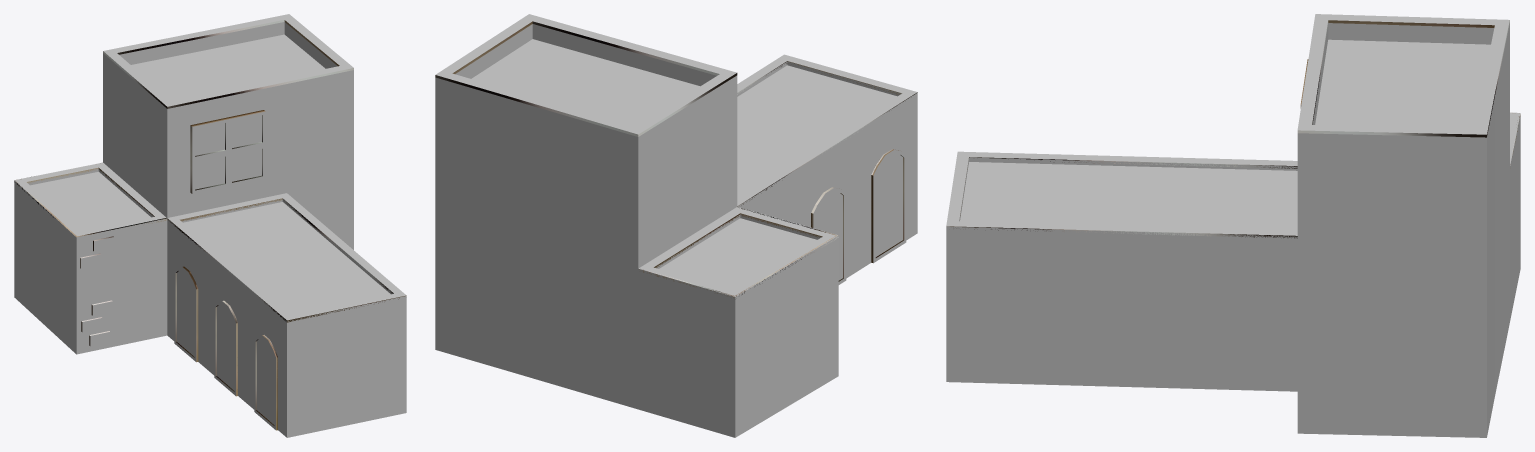
Rendered from HouseTShaped.fbx.
3 views of the same model, side by side, from view 1: azimuth 30°, elevation 25°; view 2: azimuth 150°, elevation 25°; view 3: azimuth 270°, elevation 25° (orthographic). The views are drawn at different scales.
Parts seen in each view (by area): view 1: T-house; view 2: T-house; view 3: T-house.
Boxes of the visible parts, x1=… form: T-house: x1=14, y1=14, x2=406, y2=437; T-house: x1=435, y1=14, x2=917, y2=437; T-house: x1=946, y1=14, x2=1520, y2=437.
Size of the model in its own units: 2206 by 1759 by 3020.
